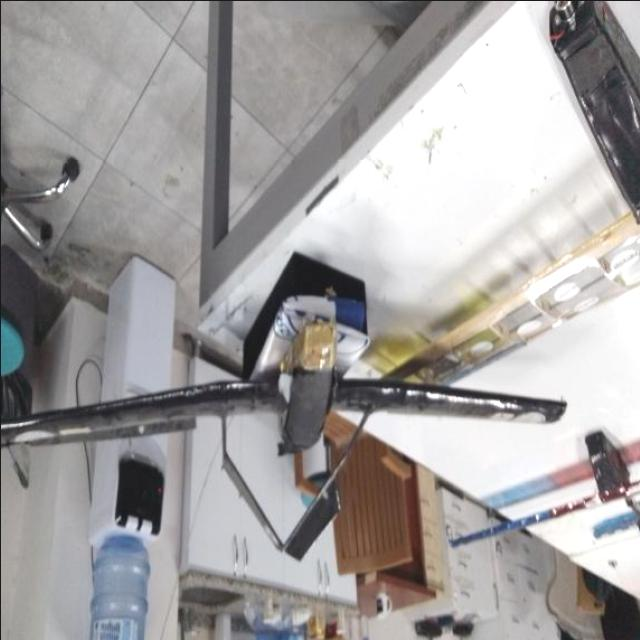plane: (0, 311, 566, 572), (441, 424, 640, 599)
